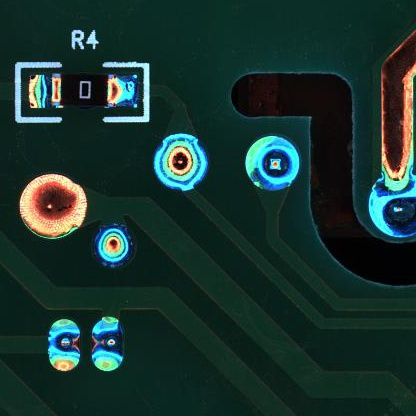spot: (368, 169, 416, 241), (243, 135, 302, 191), (153, 133, 209, 191), (92, 223, 135, 270), (91, 316, 124, 374), (47, 317, 80, 371)
